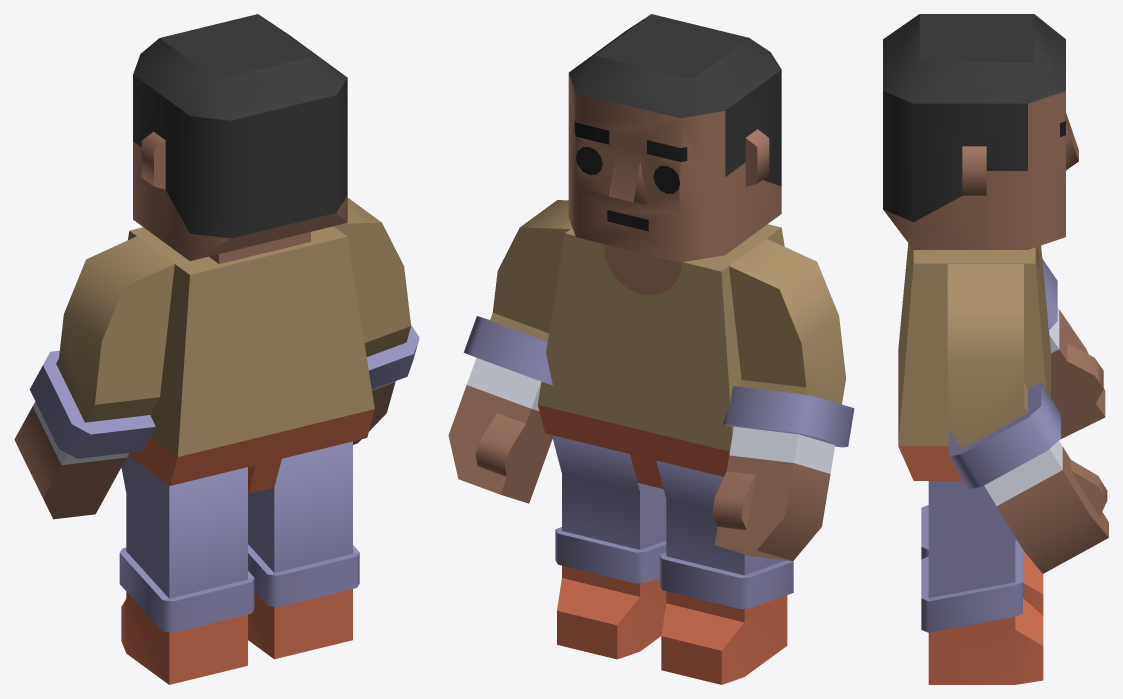
The model's file is dad.glb.
The picture shows the model from 3 angles, left to right: view 1: azimuth 30°, elevation 25°; view 2: azimuth 150°, elevation 25°; view 3: azimuth 270°, elevation 25°; orthographic projection.
Parts seen in each view (by area): view 1: mergedBlocks(Clone); view 2: mergedBlocks(Clone); view 3: mergedBlocks(Clone).
Part boxes in pixels (<box>): mergedBlocks(Clone): <box>14,14,419,684</box>; mergedBlocks(Clone): <box>448,14,854,684</box>; mergedBlocks(Clone): <box>883,14,1108,684</box>.
Bounding box in the file's own units: 0.5428 × 0.8704 × 0.2962.
Materials: 1 (1 with a texture image).
